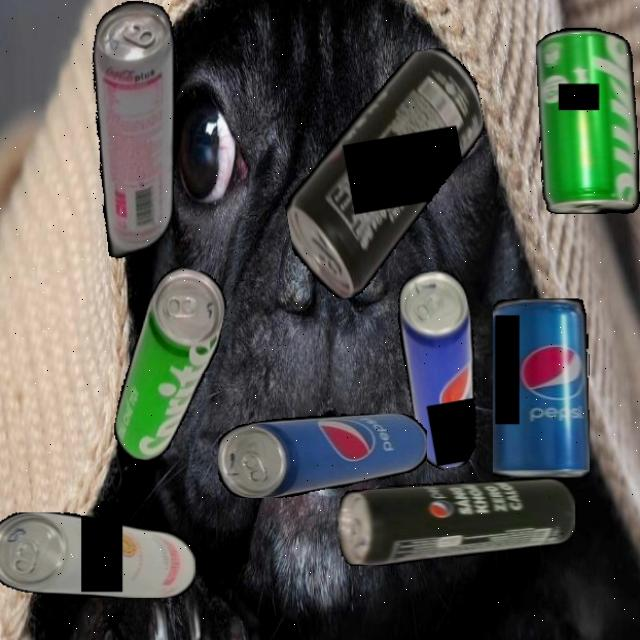debris: (264, 42, 510, 306), (57, 0, 206, 265), (110, 262, 231, 469), (390, 266, 496, 472), (338, 478, 575, 566), (536, 27, 640, 214), (218, 413, 427, 498), (492, 298, 589, 478), (0, 511, 195, 597)
